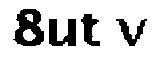8: (8, 2, 45, 51)
t: (79, 7, 107, 51)
u: (46, 14, 79, 50)
v: (110, 11, 149, 51)
